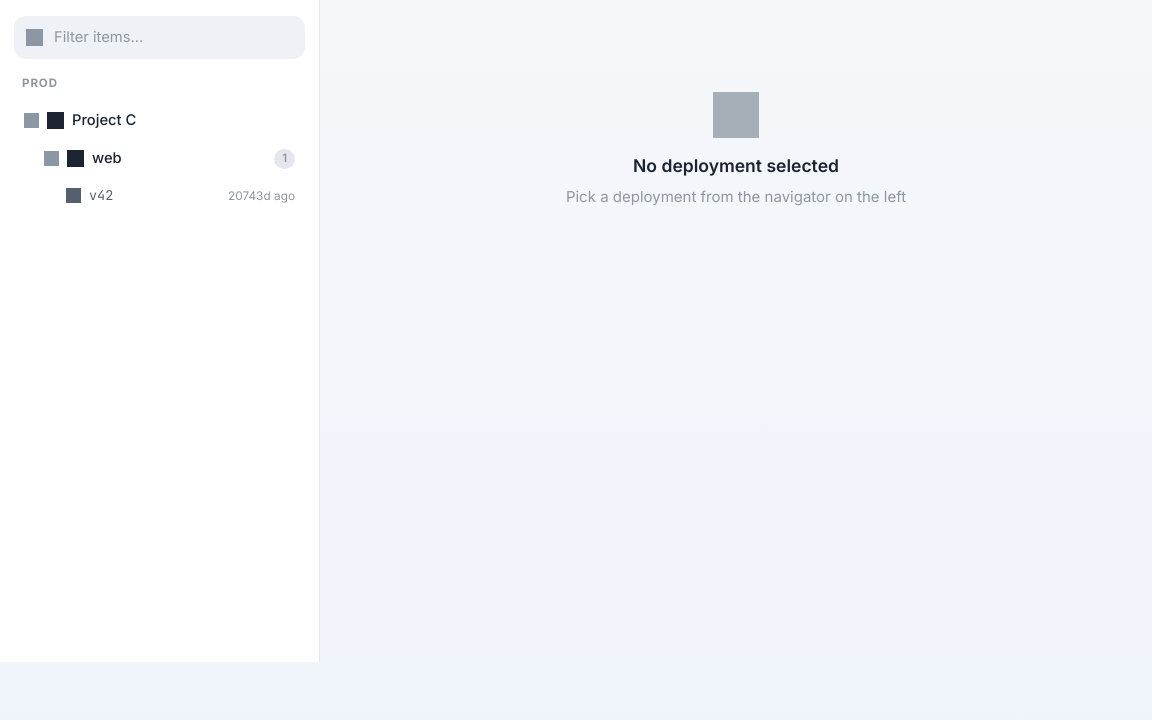
DeploymentViewerComponent › renders the picked deployment's header from the tree and its content blocks
Click the button with class "nav-version".
click(262, 196)  # box [14,178,305,213]
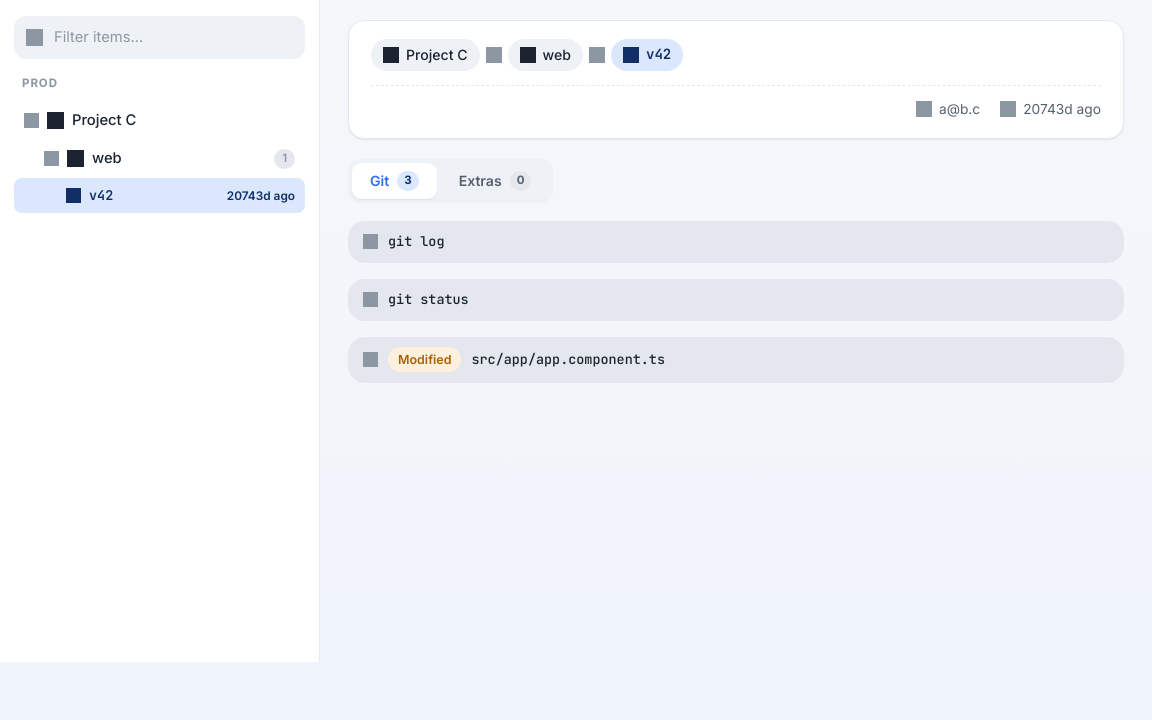
Now the element with class "crumb" reads "Project C", box [406,46,468,63]
Now the element with class "crumb" reads "web", box [542,46,571,63]
Now the element with class "crumb" reads "v42", box [646,45,671,63]
